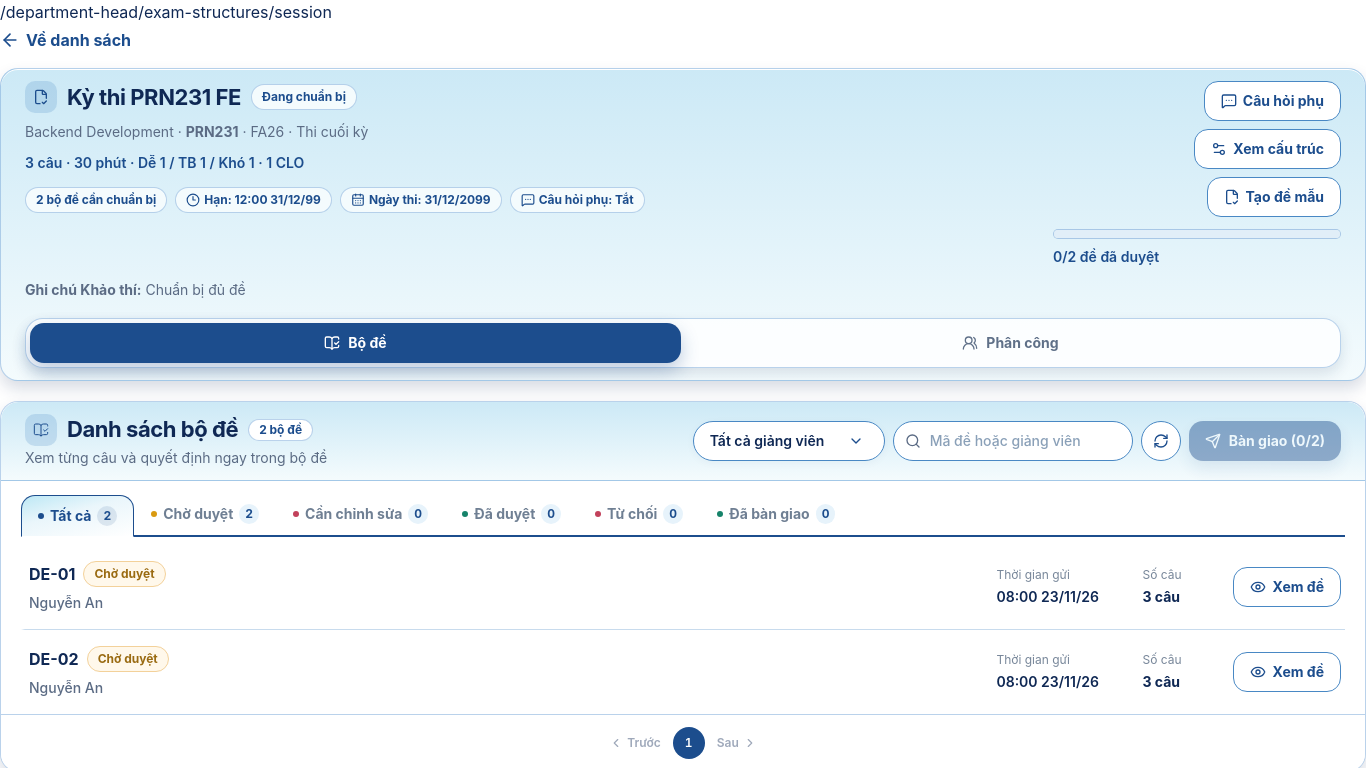
Test case: Chuẩn bị đề thi trưởng bộ môn › reviews every question in one drawer without changing the page URL
Step 1. Click the button with aria-label "Xem bộ đề DE-01" → (52, 574), box [21,545,1345,630]
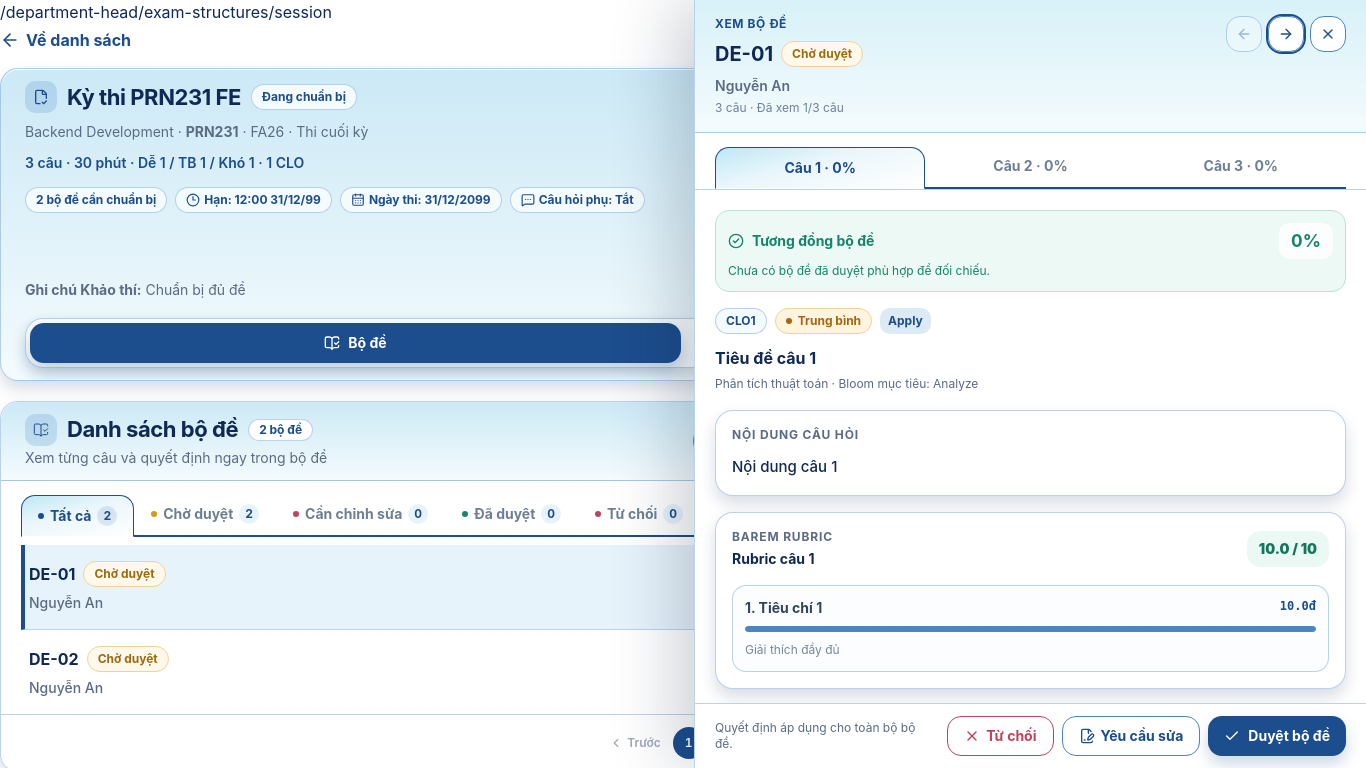
expect the text "Nội dung câu 1" is shown: met, box [732,456,837,476]
Step 2. Click the tab "Câu 2 · 0%" → (1030, 166), box [925,145,1136,187]
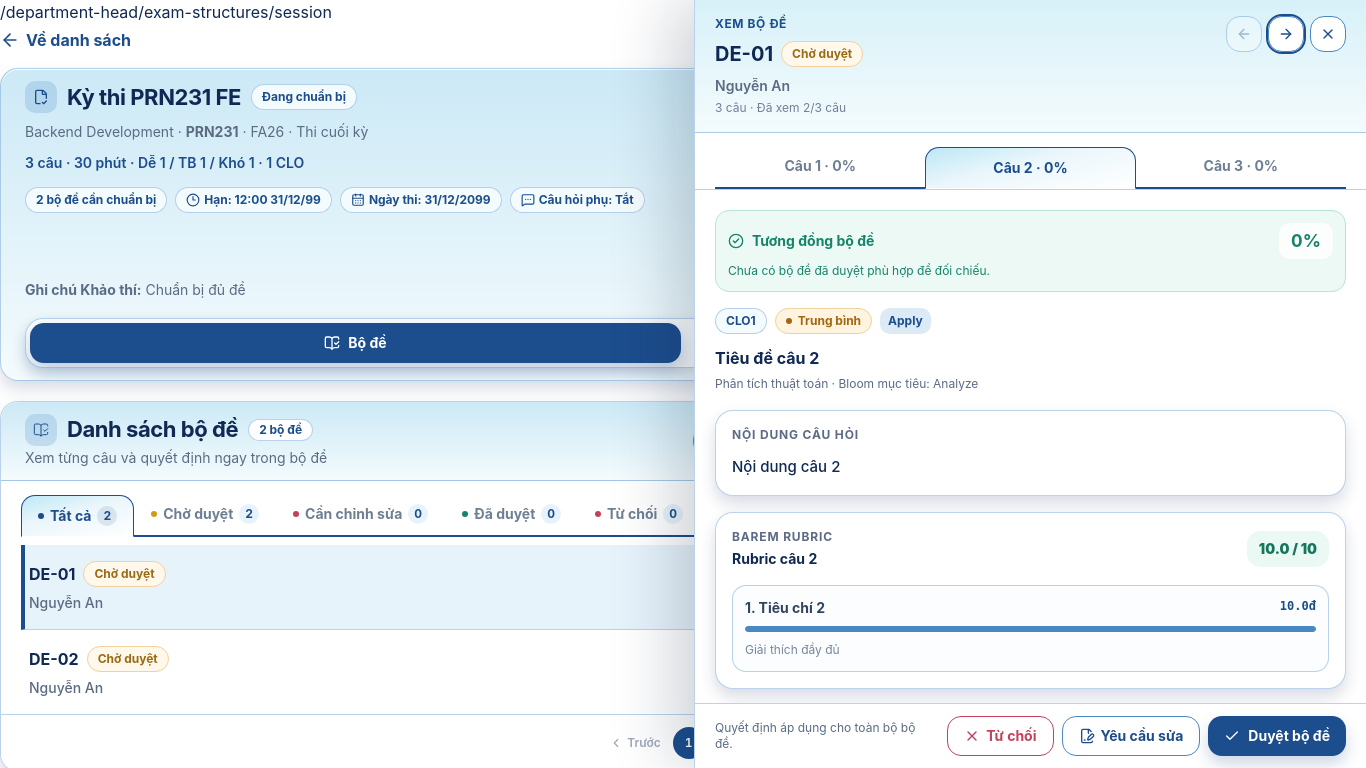
expect the text "Nội dung câu 2" is shown: met, box [732,456,840,476]
expect the heading "Rubric câu 2" is shown: met, box [732,550,817,567]
